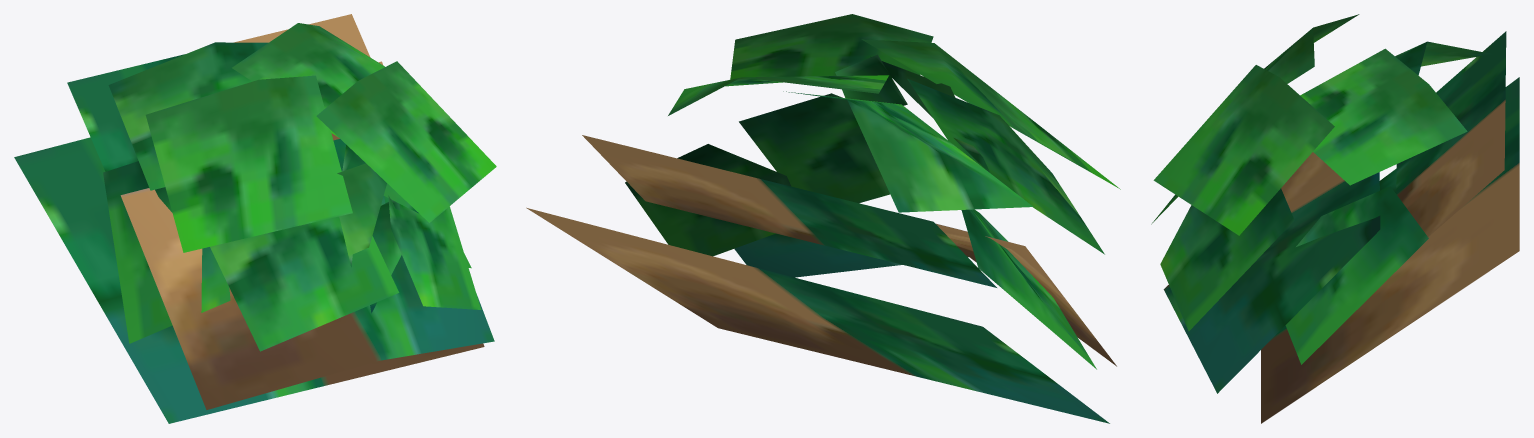
File: fg_bushB_2_pi.dae
3 renders of one model, left to right at view 1: azimuth 30°, elevation 25°; view 2: azimuth 150°, elevation 25°; view 3: azimuth 270°, elevation 25°, orthographic. The views are drawn at different scales.
Visible parts, largest first — view 1: fg_bushB_2_pi; view 2: fg_bushB_2_pi; view 3: fg_bushB_2_pi.
Boxes of the visible parts, bbox=[...] form: fg_bushB_2_pi: bbox=[14, 14, 496, 423]; fg_bushB_2_pi: bbox=[526, 14, 1120, 423]; fg_bushB_2_pi: bbox=[1151, 14, 1519, 423].
Bounding box in the file's own units: 43.24 × 33.37 × 37.45.
Materials: 1 (1 with a texture image).
